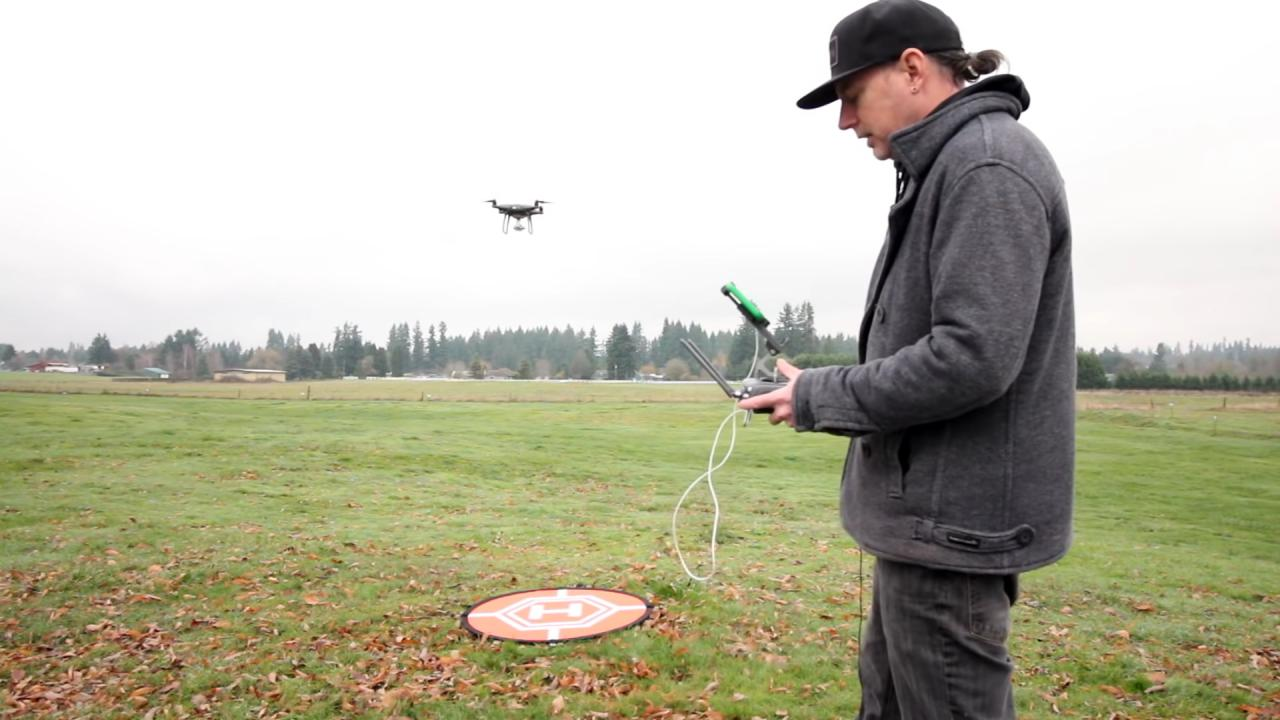Drone: (481, 191, 562, 241)
